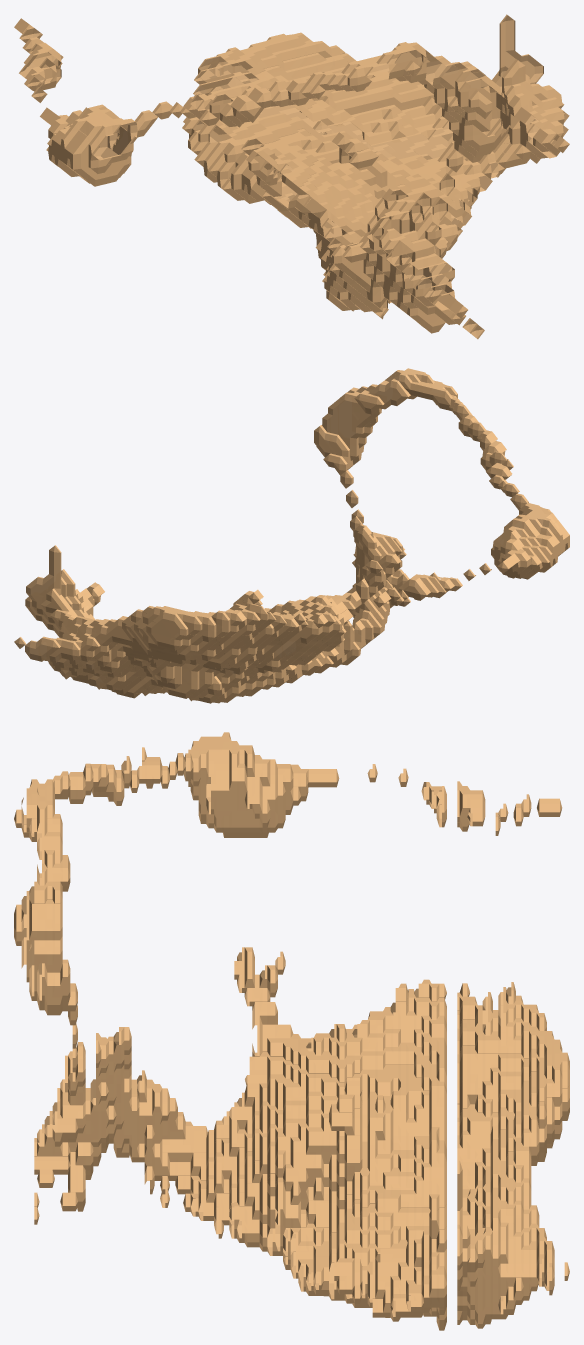
Rendered from SVV_URYVL.gltf.
3 renders of one model, top to bottom at view 1: azimuth 30°, elevation 25°; view 2: azimuth 150°, elevation 25°; view 3: azimuth 270°, elevation 25°, orthographic. The views are drawn at different scales.
Parts seen in each view (by area): view 1: URYVL; view 2: URYVL; view 3: URYVL.
Boxes of the visible parts, <box> form: URYVL: <box>14,14,569,339</box>; URYVL: <box>14,368,569,703</box>; URYVL: <box>14,732,569,1330</box>.
Size of the model in its own units: 41490 by 23045 by 27788.
